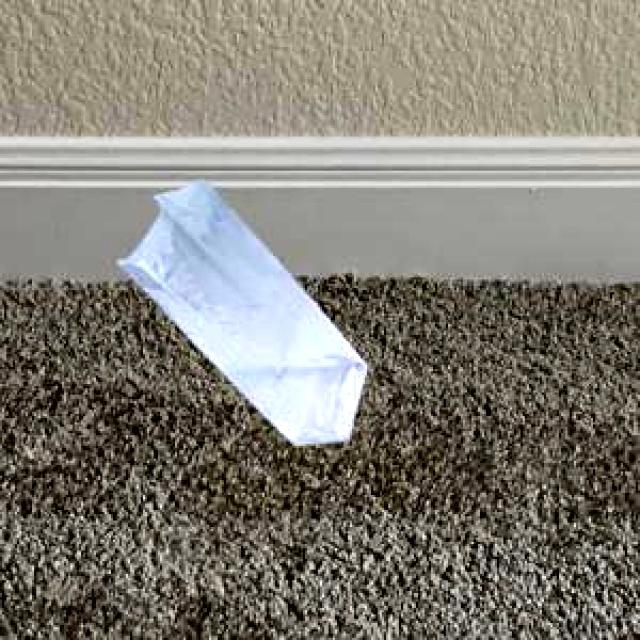Plastic_Bag: (114, 176, 364, 443)
